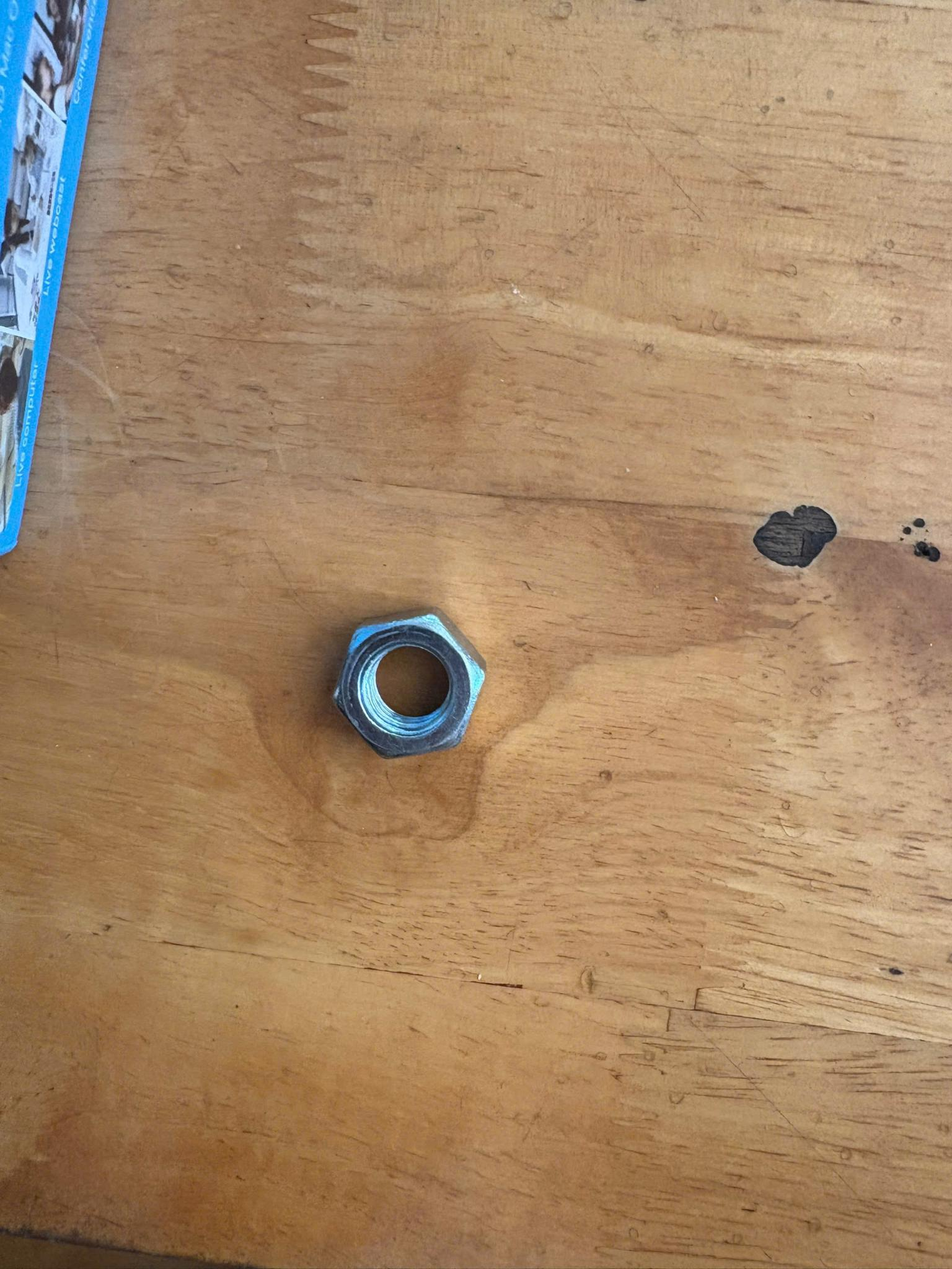nut: (327, 608, 504, 777)
